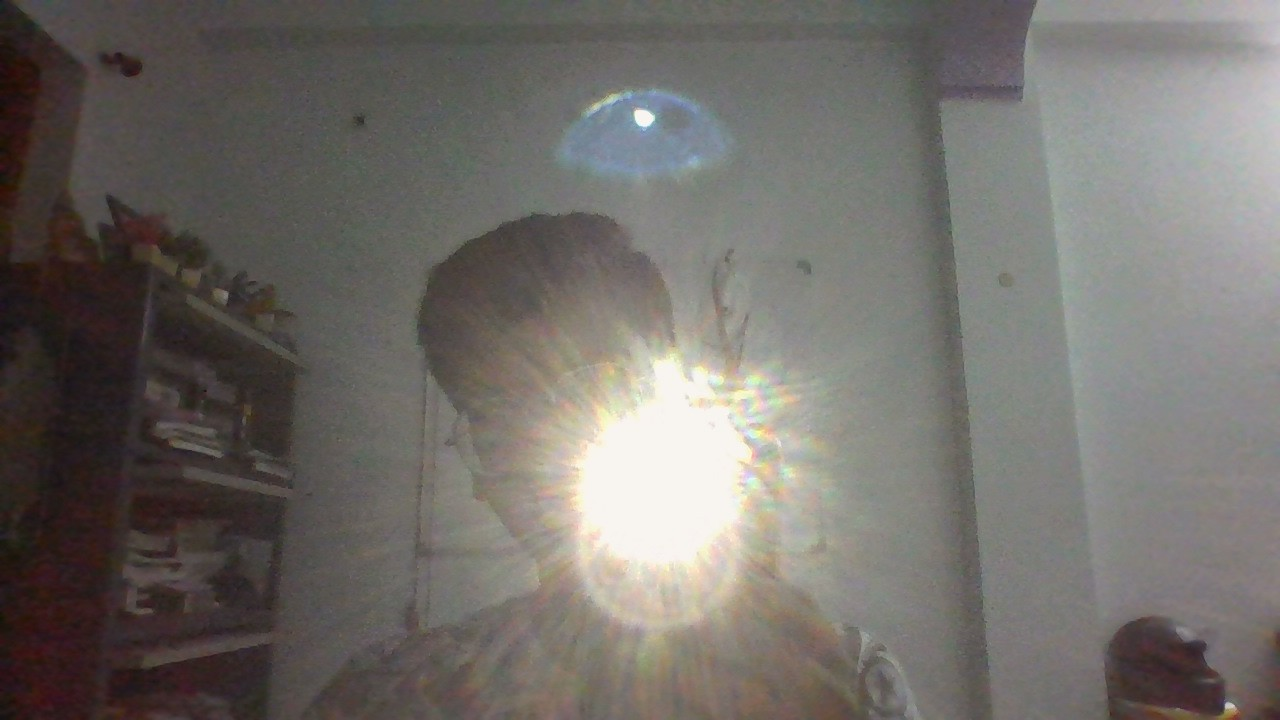Glare: (571, 375, 754, 570)
